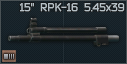RPK-16 5.45x39 15 inch barrel: (0, 0, 127, 64)
